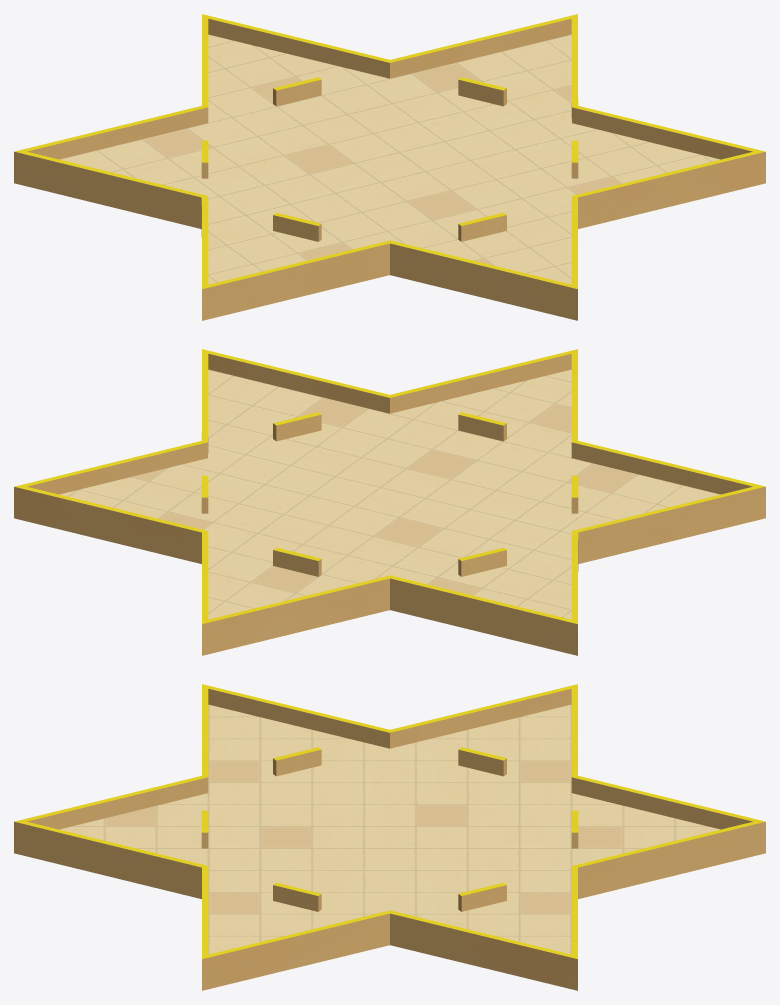
Rendered from battle_stage_28.fbx.
The picture shows the model from 3 angles, top to bottom: view 1: azimuth 30°, elevation 25°; view 2: azimuth 150°, elevation 25°; view 3: azimuth 270°, elevation 25°; orthographic projection.
Visible parts, largest first — view 1: Star, Star.002, Star.001; view 2: Star, Star.002, Star.001; view 3: Star, Star.002, Star.001.
Boxes of the visible parts, box(x1,y1,x2,y2) form: Star: box(59, 34, 719, 284); Star.002: box(14, 14, 765, 320); Star.001: box(201, 77, 578, 241); Star: box(60, 369, 720, 619); Star.002: box(14, 349, 765, 655); Star.001: box(201, 412, 578, 576); Star: box(59, 704, 720, 954); Star.002: box(14, 684, 765, 990); Star.001: box(201, 747, 578, 911).
Bounding box in the file's own units: 7456 × 400 × 8610.
